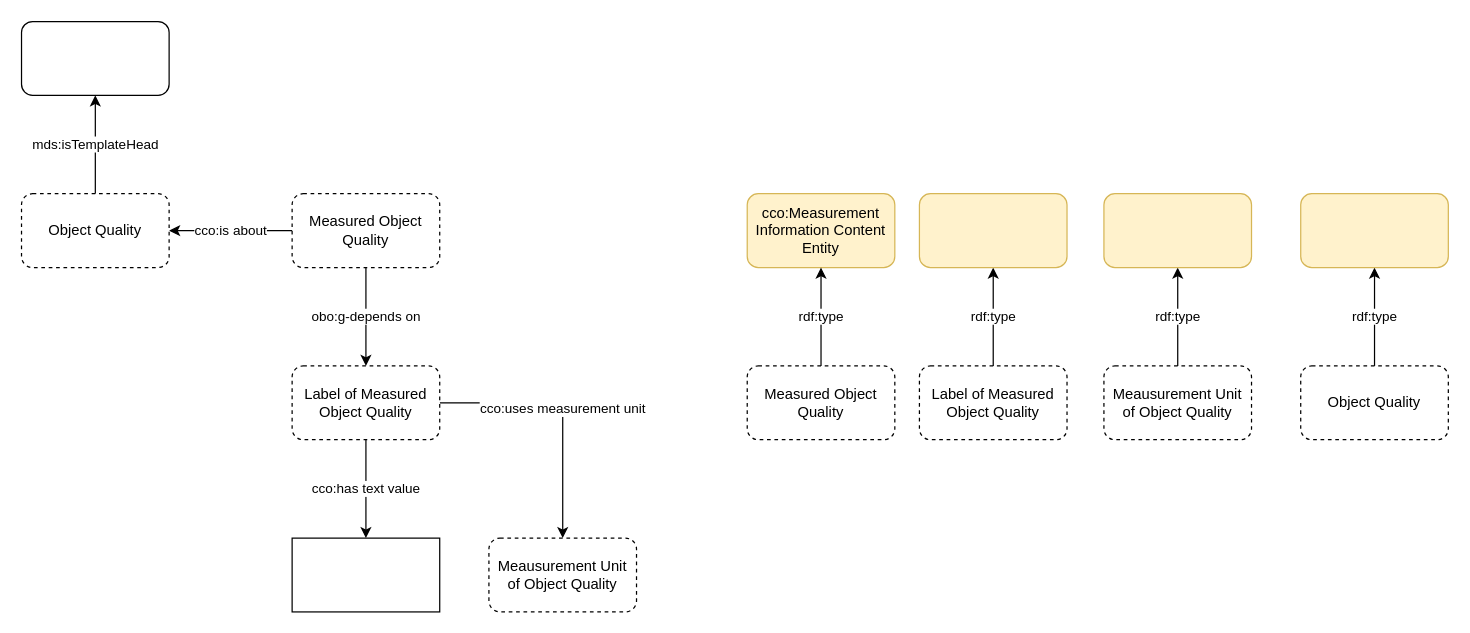
The diagram is 1470 pixels wide and 633 high, and some of its shapes have lost their labels. Each missing label, with the box of its shape:
"Value"^^xsd:string: (291, 537, 440, 612)
cco:Distance Measurement Information Content Entity: (1103, 192, 1252, 268)
cco:IBE: (918, 192, 1067, 268)
mds:Variable*: (20, 20, 169, 95)
obo:Quality: (1299, 192, 1448, 268)
